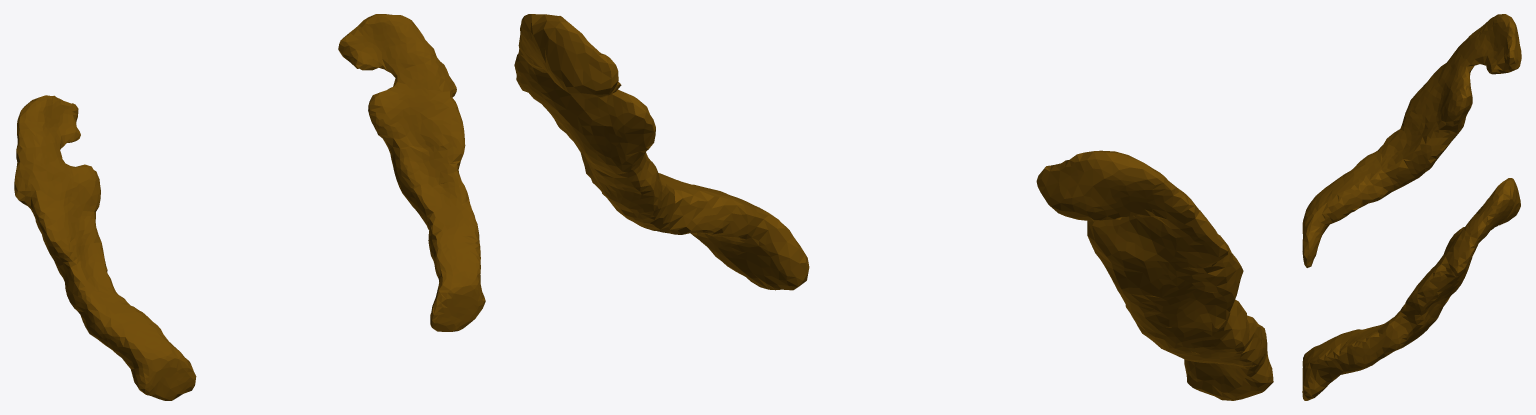
The model's file is 122-TPO-temporal parietooccipital associated area in sts-('0.4980', '0.3255', '0.0000').obj.
3 views of the same model, side by side, from view 1: azimuth 30°, elevation 25°; view 2: azimuth 150°, elevation 25°; view 3: azimuth 270°, elevation 25° (orthographic). The views are drawn at different scales.
Bounding box in the file's own units: 340 × 173 × 149.
